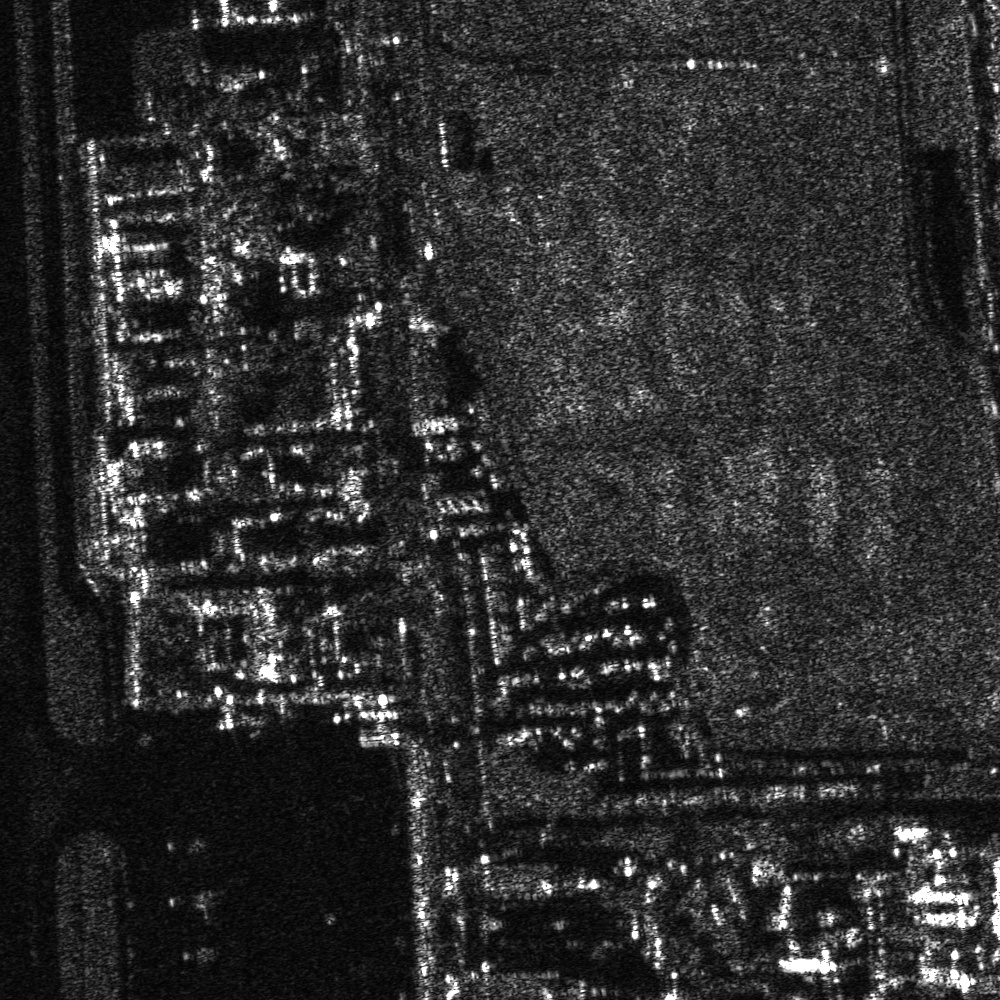ARJ21: (160, 878, 228, 922), (171, 933, 227, 972)
other: (150, 823, 217, 865)
